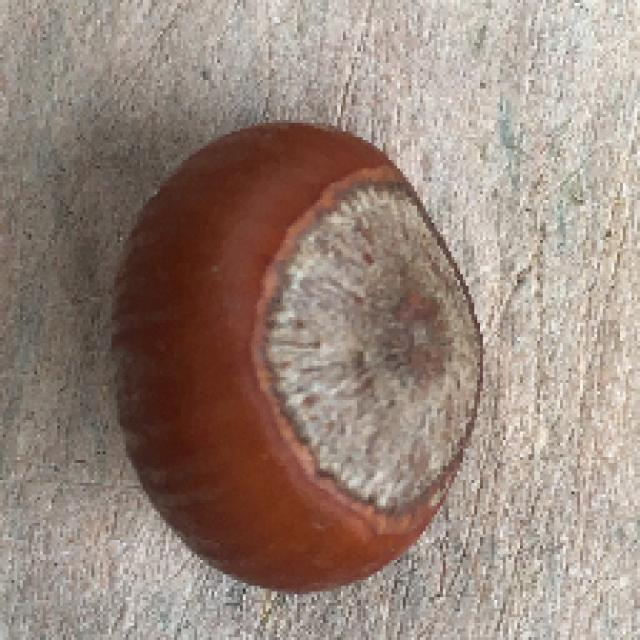qualityHazelnut: (104, 117, 487, 596)
